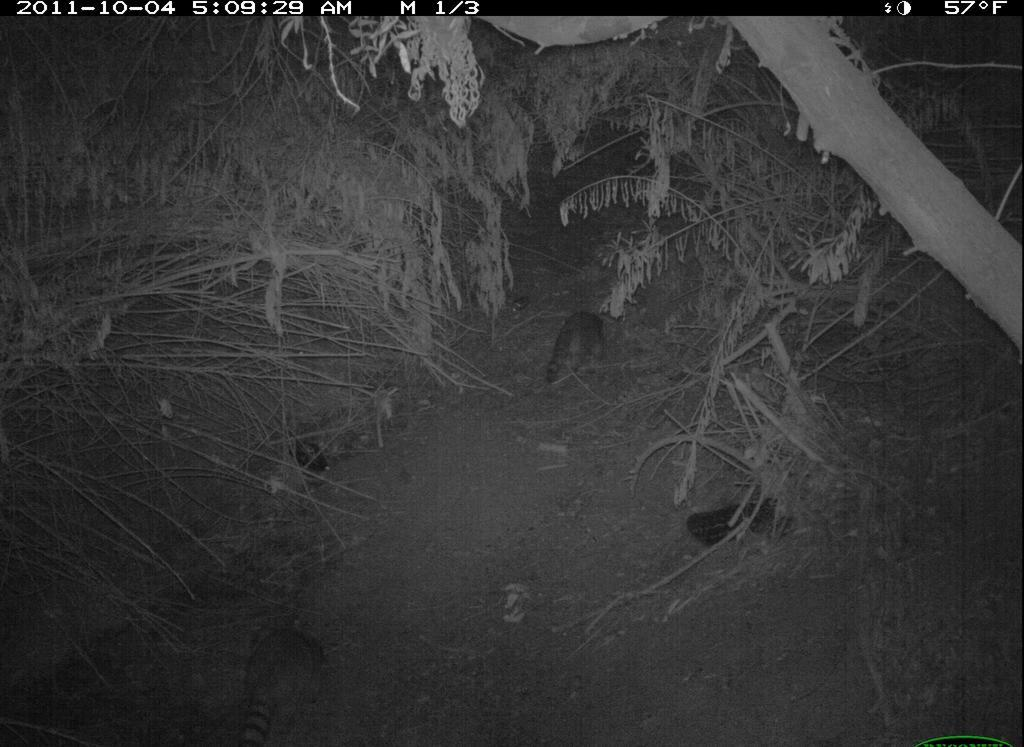raccoon: (221, 611, 340, 745), (536, 303, 616, 401)
